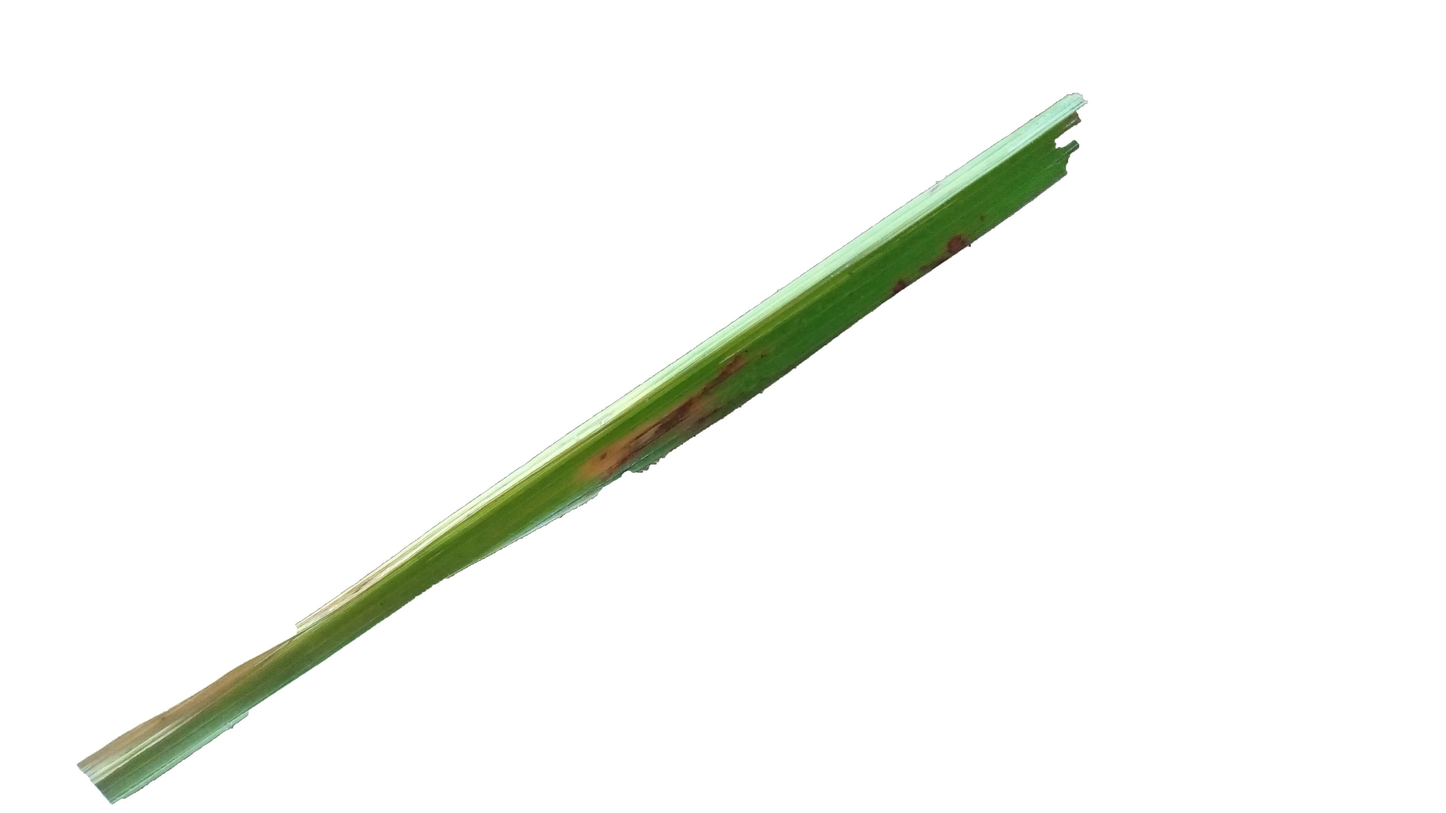Rice blast: (565, 336, 785, 491), (879, 219, 983, 299)
